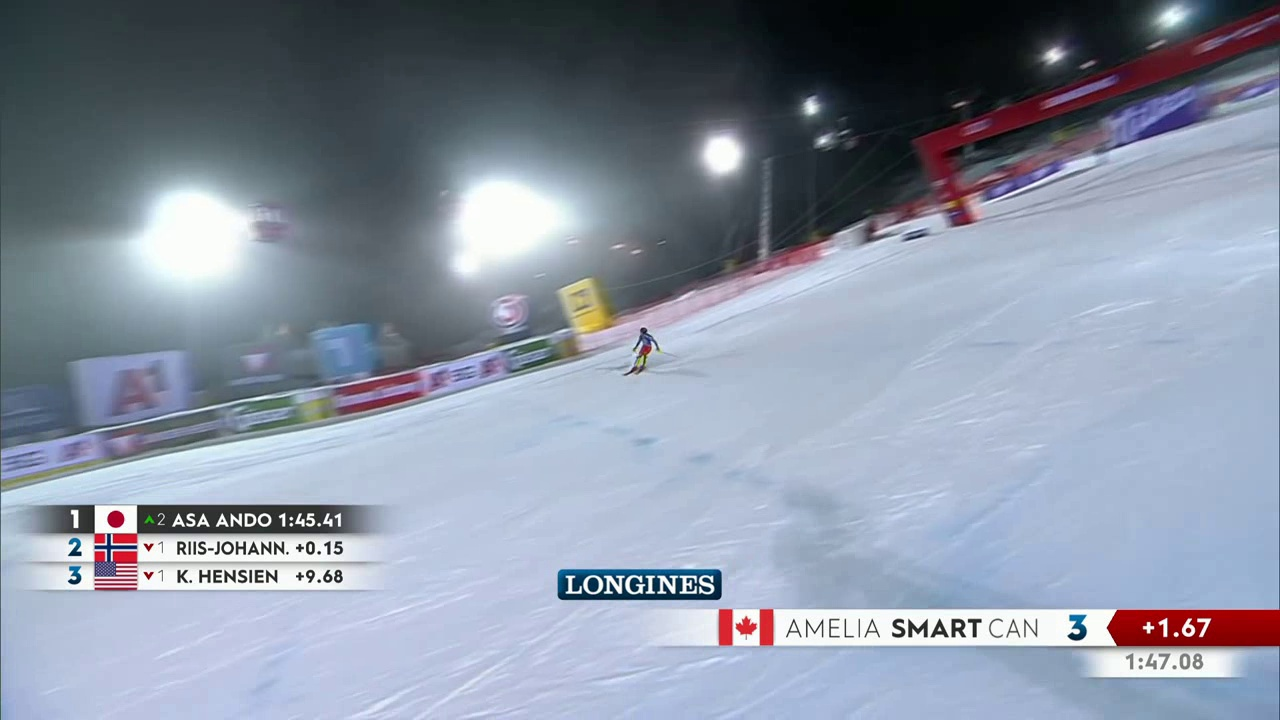a1: (102, 355, 183, 420)
longines: (543, 567, 731, 605)
